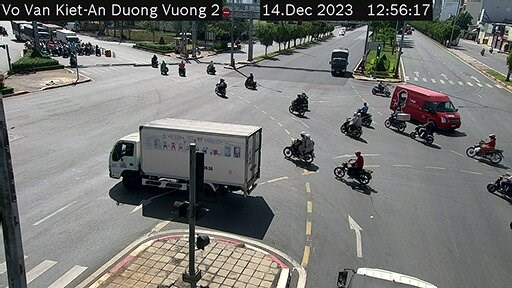car: (385, 74, 467, 138)
motorbike: (331, 150, 371, 192), (471, 130, 509, 169), (285, 130, 319, 166), (340, 107, 369, 142), (408, 116, 430, 151), (288, 90, 315, 115), (350, 96, 377, 121), (387, 104, 408, 134), (211, 74, 230, 100), (241, 72, 261, 93), (371, 80, 387, 102), (174, 59, 185, 85), (204, 57, 215, 80), (155, 59, 167, 80), (148, 50, 153, 75)
truck: (105, 113, 271, 199), (319, 43, 350, 84)
